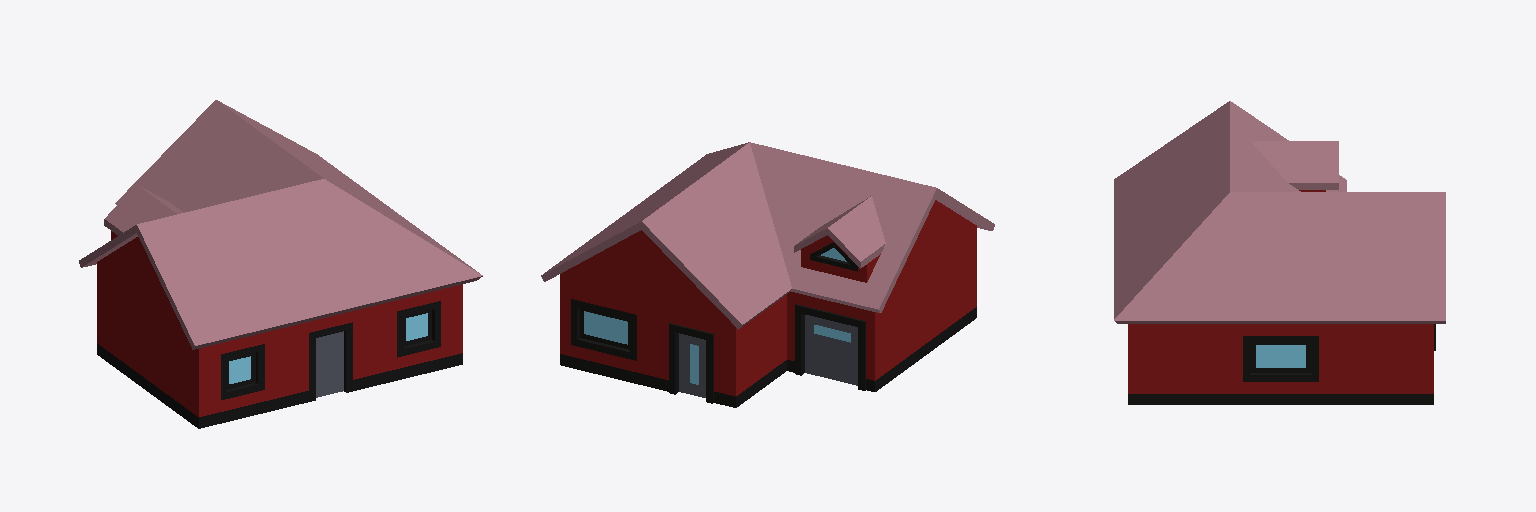
The model's file is insta_residential_brick_1.obj.
The picture shows the model from 3 angles: view 1: azimuth 30°, elevation 25°; view 2: azimuth 150°, elevation 25°; view 3: azimuth 270°, elevation 25°; orthographic projection.
Parts seen in each view (by area): view 1: insta_residential_brick_1_roof(Clone), insta_residential_brick_1__defaultMat(Clone), insta_residential_brick_1_border(Clone), insta_residential_brick_1_door(Clone), insta_residential_brick_1_window(Clone); view 2: insta_residential_brick_1_roof(Clone), insta_residential_brick_1__defaultMat(Clone), insta_residential_brick_1_border(Clone), insta_residential_brick_1_door(Clone), insta_residential_brick_1_window(Clone); view 3: insta_residential_brick_1_roof(Clone), insta_residential_brick_1__defaultMat(Clone), insta_residential_brick_1_border(Clone), insta_residential_brick_1_window(Clone).
Part boxes in pixels (left/top/right/bottom): insta_residential_brick_1_roof(Clone): left=79, top=100, right=482, bottom=349; insta_residential_brick_1__defaultMat(Clone): left=97, top=231, right=462, bottom=416; insta_residential_brick_1_border(Clone): left=97, top=301, right=462, bottom=428; insta_residential_brick_1_door(Clone): left=316, top=331, right=343, bottom=397; insta_residential_brick_1_window(Clone): left=229, top=313, right=427, bottom=383; insta_residential_brick_1_roof(Clone): left=541, top=142, right=994, bottom=329; insta_residential_brick_1__defaultMat(Clone): left=560, top=200, right=976, bottom=396; insta_residential_brick_1_border(Clone): left=560, top=242, right=976, bottom=407; insta_residential_brick_1_door(Clone): left=679, top=315, right=857, bottom=397; insta_residential_brick_1_window(Clone): left=584, top=248, right=850, bottom=384; insta_residential_brick_1_roof(Clone): left=1114, top=101, right=1445, bottom=323; insta_residential_brick_1__defaultMat(Clone): left=1128, top=190, right=1433, bottom=393; insta_residential_brick_1_border(Clone): left=1128, top=324, right=1435, bottom=404; insta_residential_brick_1_window(Clone): left=1256, top=345, right=1305, bottom=367.
Size of the model in its own units: 0.9418 by 0.531 by 0.9418.